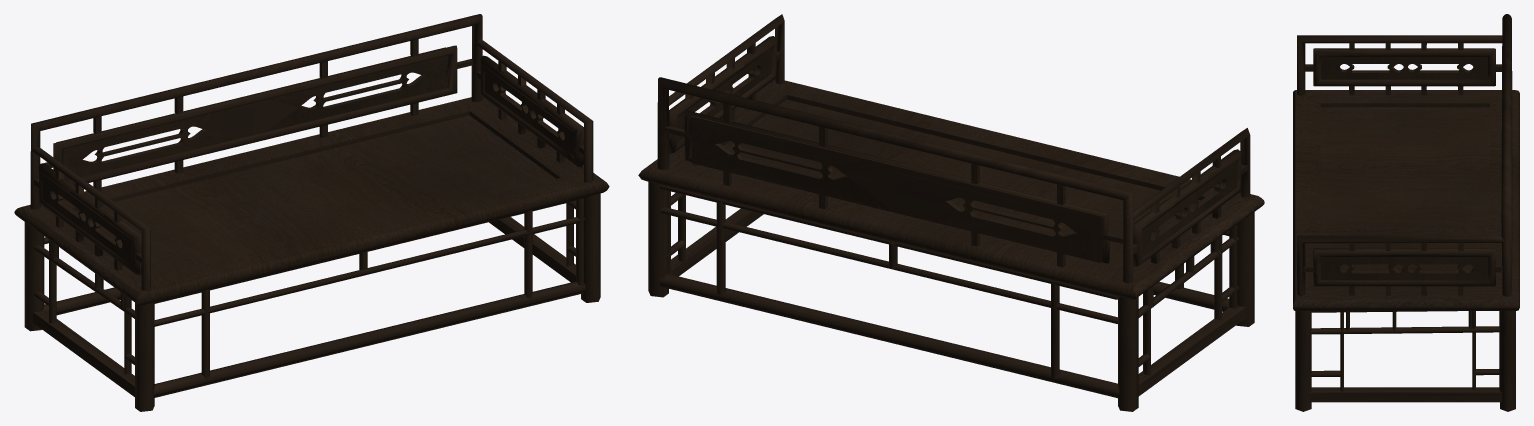
Rendered from Sofa.FBX.
3 renders of one model, left to right at view 1: azimuth 30°, elevation 25°; view 2: azimuth 150°, elevation 25°; view 3: azimuth 270°, elevation 25°, orthographic. The views are drawn at different scales.
Parts seen in each view (by area): view 1: sofa; view 2: sofa; view 3: sofa.
Boxes of the visible parts, x1,y1,x2,y2 form: sofa: [14, 14, 609, 411]; sofa: [638, 14, 1264, 411]; sofa: [1293, 14, 1519, 411].
Size of the model in its own units: 213 by 88 by 95.32.
Materials: 1 (1 with a texture image).
